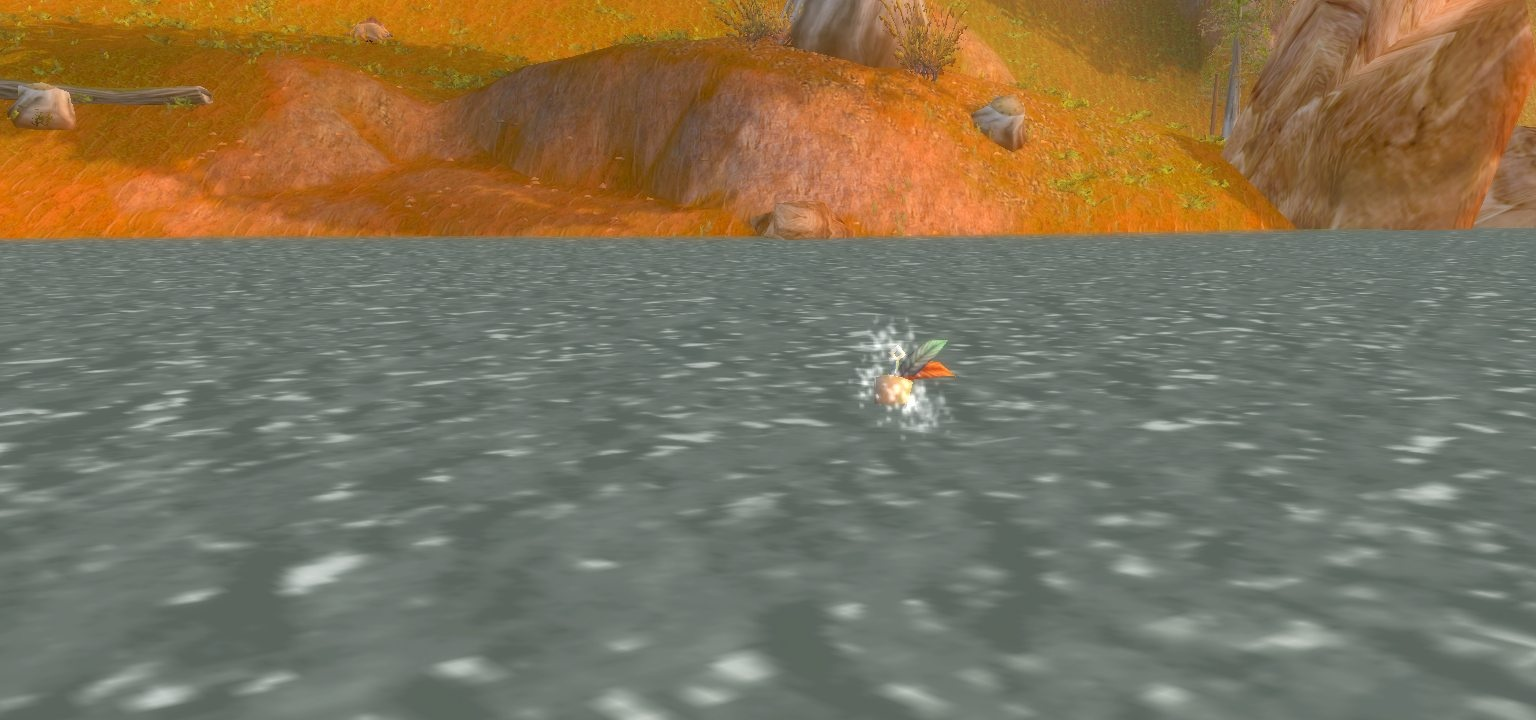Splash: (871, 339, 956, 406)
